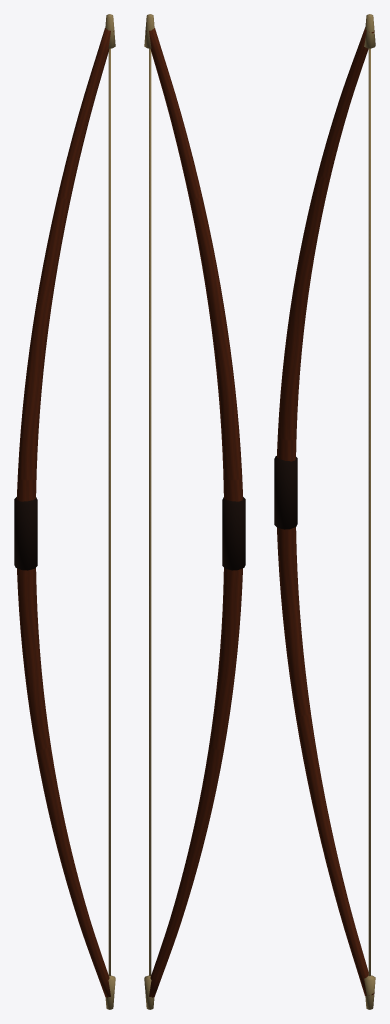
Rendered from longbow.glb.
3 views of the same model, side by side, from view 1: azimuth 30°, elevation 25°; view 2: azimuth 150°, elevation 25°; view 3: azimuth 330°, elevation 25° (orthographic).
Visible parts, largest first — view 1: YewStave, LinenString, LeatherGripWrap; view 2: YewStave, LinenString, LeatherGripWrap; view 3: YewStave, LinenString, LeatherGripWrap, UpperHornNock, LowerHornNock.
Part boxes in pixels (x1,y1,x2,y2): YewStave: (17,28,114,997); LinenString: (108,48,110,975); LeatherGripWrap: (14,497,37,570); YewStave: (145,28,242,997); LinenString: (149,48,151,975); LeatherGripWrap: (222,497,245,570); YewStave: (277,27,374,995); LinenString: (368,48,370,975); LeatherGripWrap: (274,456,297,529); UpperHornNock: (364,14,375,48); LowerHornNock: (364,975,375,1009).
Size of the model in its own units: 0.1895 by 1.82 by 0.0371.
Materials: 3 (3 with a texture image).
